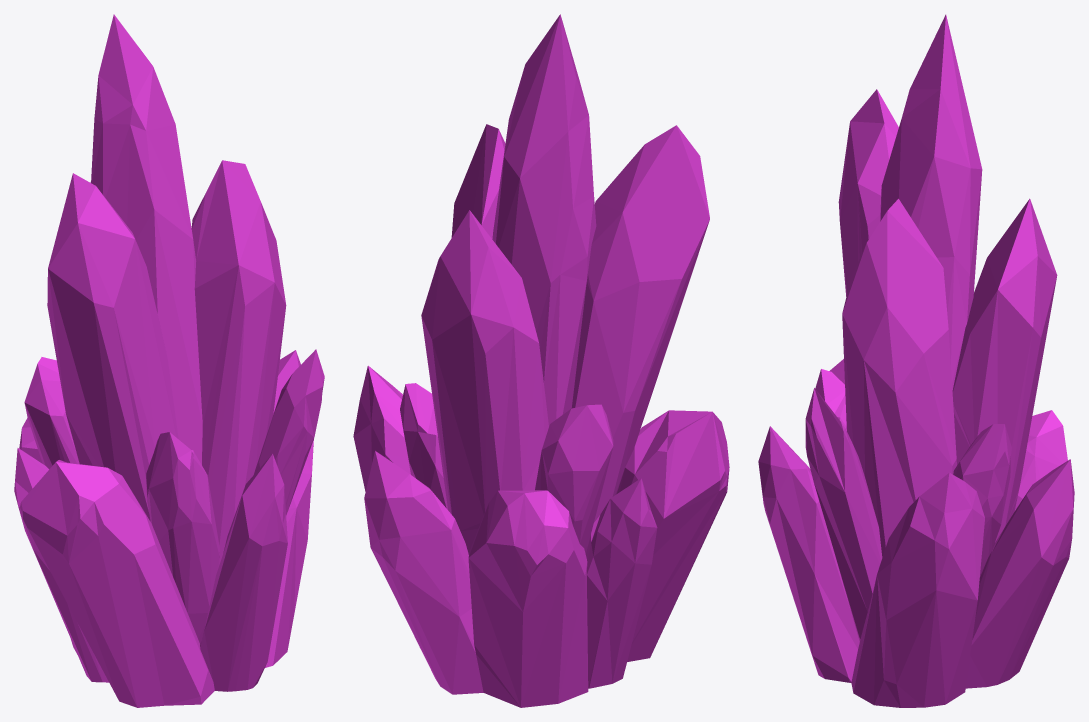
File: sm_CrsCluster.fbx
3 views of the same model, side by side, from view 1: azimuth 30°, elevation 25°; view 2: azimuth 150°, elevation 25°; view 3: azimuth 270°, elevation 25° (orthographic). The views are drawn at different scales.
Parts seen in each view (by area): view 1: CrystalCluster; view 2: CrystalCluster; view 3: CrystalCluster.
Boxes of the visible parts, box(x1,y1,x2,y2) form: CrystalCluster: box(14, 14, 324, 707); CrystalCluster: box(353, 14, 729, 707); CrystalCluster: box(758, 14, 1074, 707).
Size of the model in its own units: 210 by 398 by 182.
